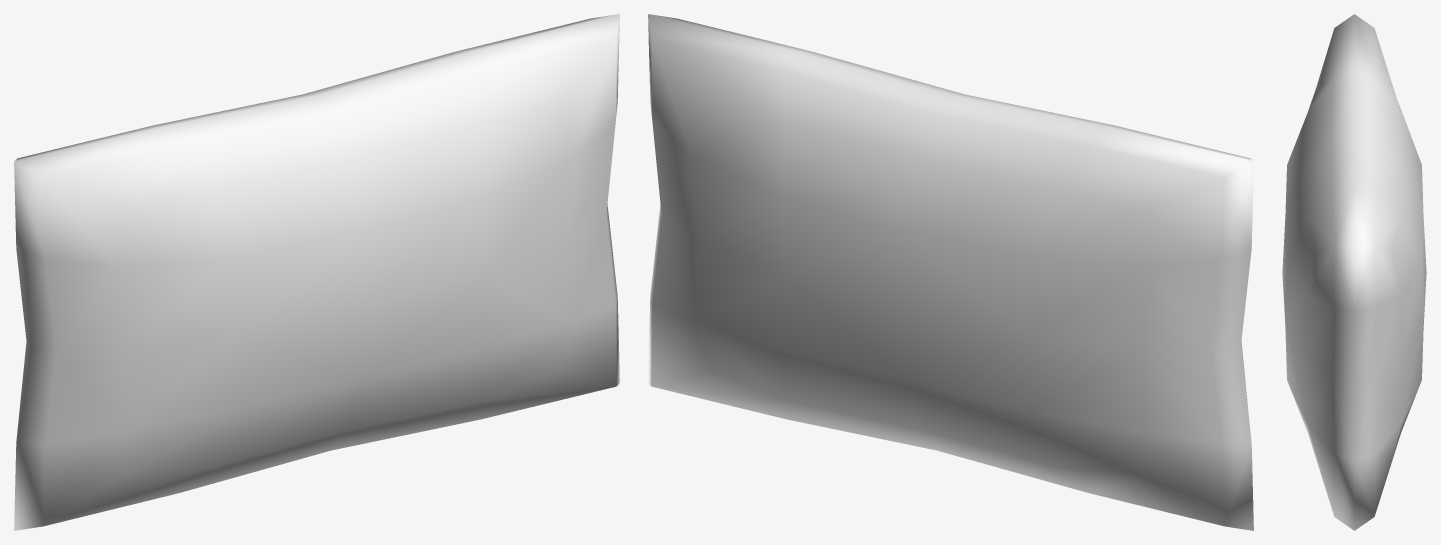
Rendered from Pillow_1.glb.
3 views of the same model, side by side, from view 1: azimuth 30°, elevation 25°; view 2: azimuth 150°, elevation 25°; view 3: azimuth 270°, elevation 25° (orthographic). The views are drawn at different scales.
Parts seen in each view (by area): view 1: Pillow_1; view 2: Pillow_1; view 3: Pillow_1.
Boxes of the visible parts, x1,y1,x2,y2 form: Pillow_1: [14, 14, 619, 530]; Pillow_1: [648, 14, 1253, 530]; Pillow_1: [1282, 14, 1426, 530].
Size of the model in its own units: 0.7227 by 0.4207 by 0.1915.
Materials: 1 (1 with a texture image).
